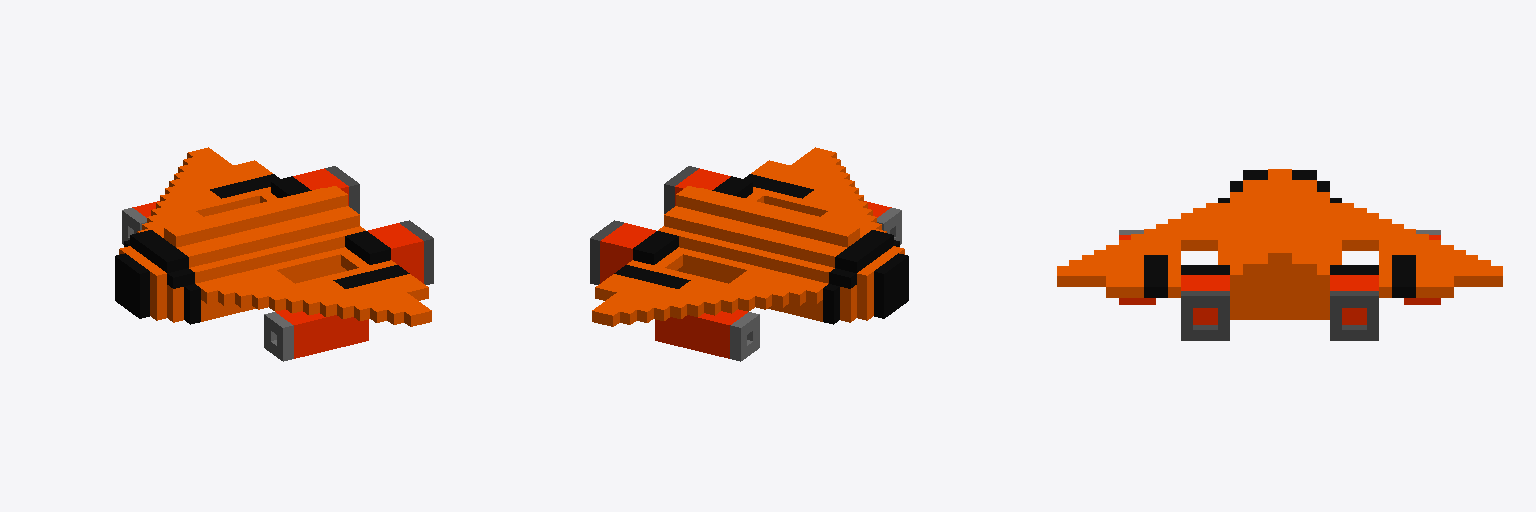
3 renders of one model, left to right at view 1: azimuth 30°, elevation 25°; view 2: azimuth 150°, elevation 25°; view 3: azimuth 270°, elevation 25°, orthographic.
Visible parts, largest first — view 1: object 1; view 2: object 1; view 3: object 1.
Part boxes in pixels (x1,y1,x2,y2): object 1: (115,147,433,361); object 1: (590,147,908,361); object 1: (1057,169,1502,340).
Size of the model in its own units: 2.4 by 0.8 by 3.6.
Materials: 1 (1 with a texture image).